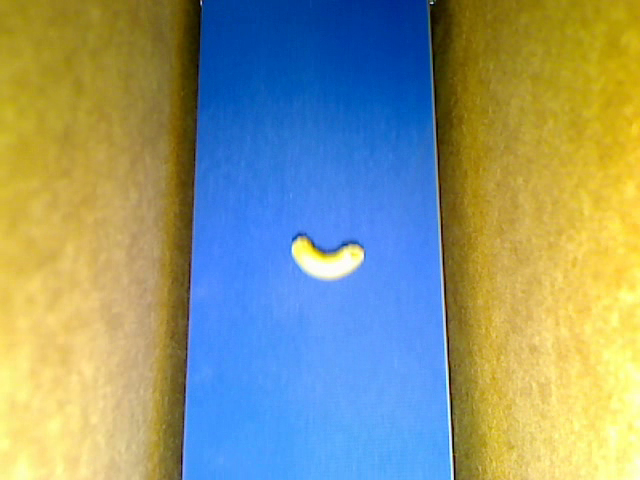elbow: (291, 233, 362, 280)
